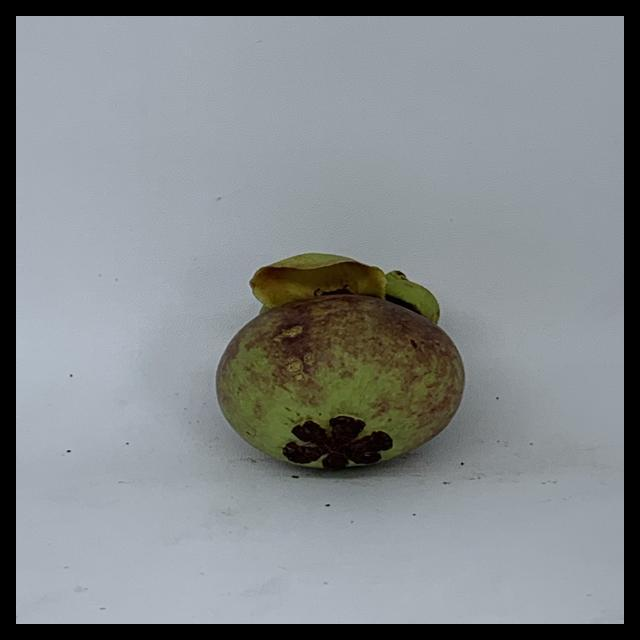mangosteen: (195, 242, 482, 484)
